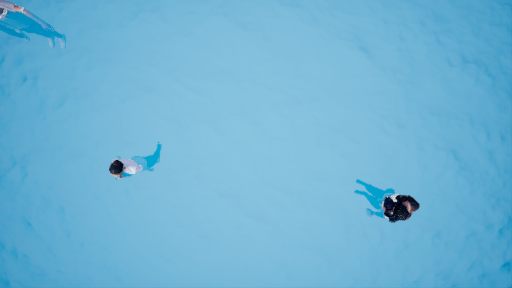person: (351, 177, 429, 227), (1, 1, 72, 48), (101, 140, 167, 180)
